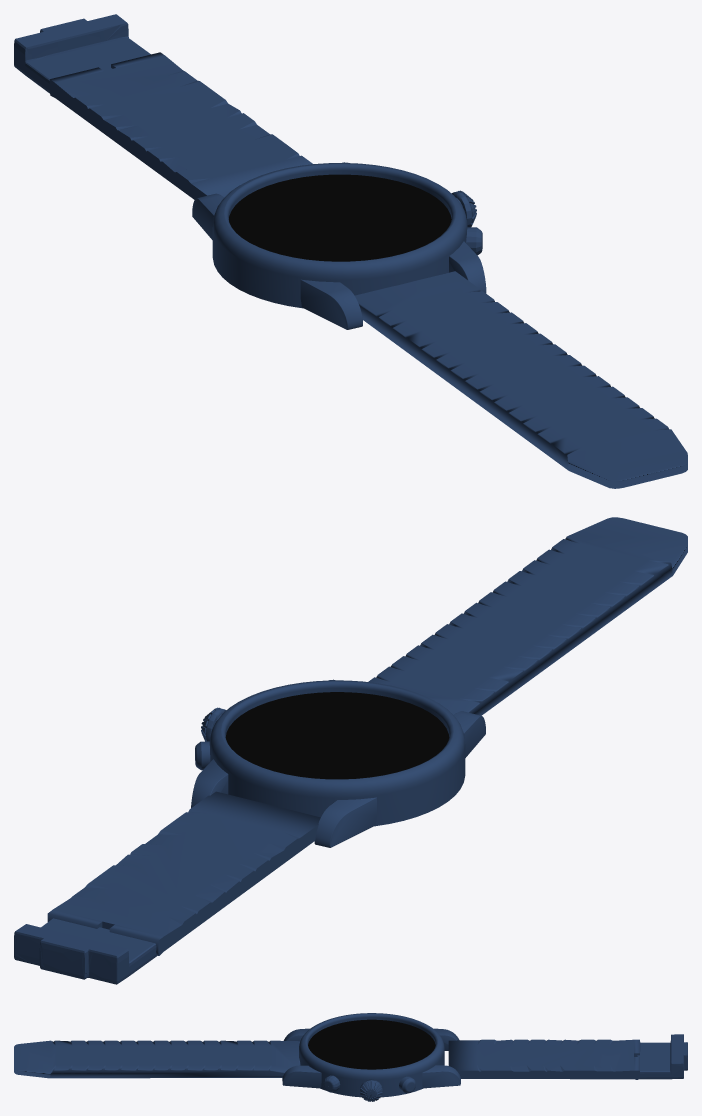
Rendered from rollex2.fbx.
3 renders of one model, top to bottom at view 1: azimuth 30°, elevation 25°; view 2: azimuth 150°, elevation 25°; view 3: azimuth 270°, elevation 25°, orthographic. The views are drawn at different scales.
Visible parts, largest first — view 1: sport watch008, sport watch004, Cylinder018, Cylinder017, Object039, Line006, Line004, Line007; view 2: sport watch008, sport watch004, Cylinder018, Cylinder017, Object039, Line007, Line008, Line006; view 3: sport watch008, sport watch004, Cylinder018, Cylinder017, Object039, Line004, Line008, rollexwatch095, Line007, rollexwatch094, rollexwatch093, Line006.
Part boxes in pixels (x1,y1,x2,y2): sport watch008: (355,271,687,488); sport watch004: (49,52,313,199); Cylinder018: (229,174,451,261); Cylinder017: (212,163,467,308); Object039: (14,14,150,93); Line006: (300,279,362,329); Line004: (449,241,486,293); Line007: (192,193,224,239); sport watch008: (368,517,687,715); sport watch004: (47,791,320,955); Cylinder018: (225,692,449,779); Cylinder017: (209,680,465,826); Object039: (14,918,157,984); Line007: (314,797,376,847); Line008: (191,759,228,807); Line006: (454,711,485,757); sport watch008: (14,1040,300,1078); sport watch004: (448,1039,640,1079); Cylinder018: (308,1019,435,1069); Cylinder017: (299,1013,444,1097); Object039: (637,1034,687,1079); Line004: (282,1065,321,1088); Line008: (422,1065,460,1088); rollexwatch095: (360,1079,382,1101); Line007: (433,1028,459,1050); rollexwatch094: (323,1075,340,1092); rollexwatch093: (399,1076,415,1093); Line006: (283,1028,309,1041).
Size of the model in its own units: 150 by 26.78 by 630.
